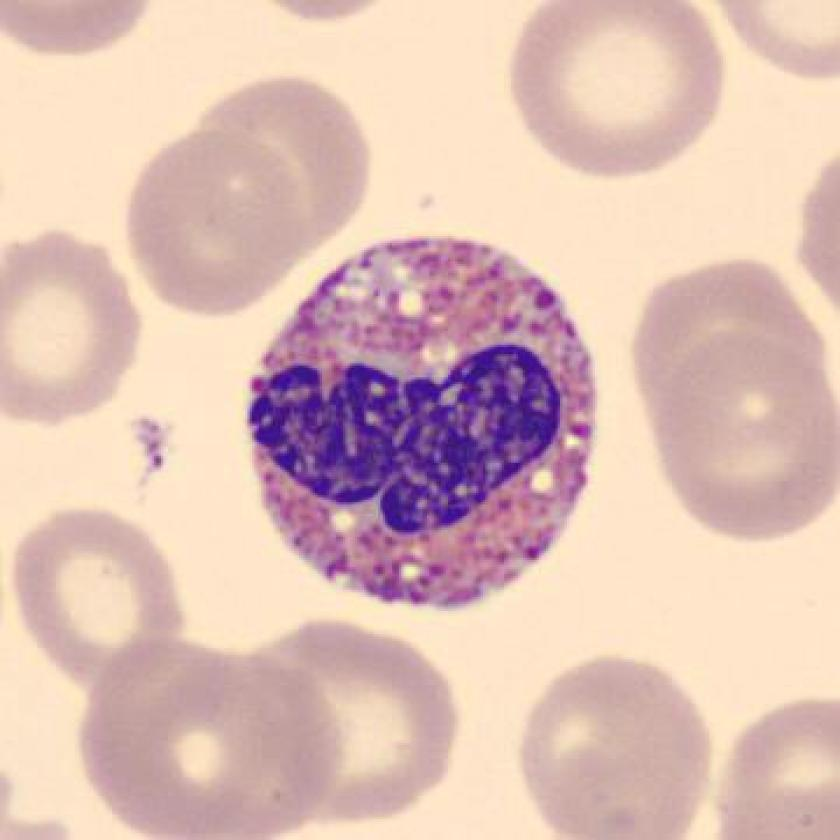eosinophil: (237, 226, 605, 617)
